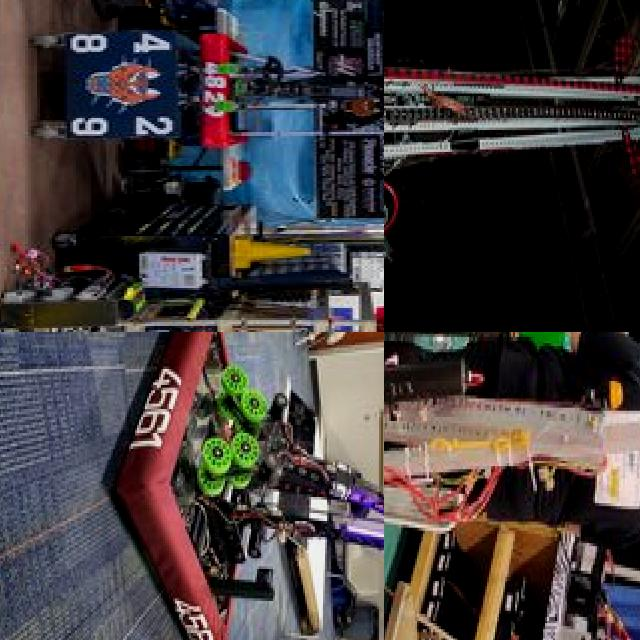FRC-Robots: (82, 332, 384, 640), (384, 0, 640, 332), (384, 332, 640, 640), (160, 0, 384, 176)
